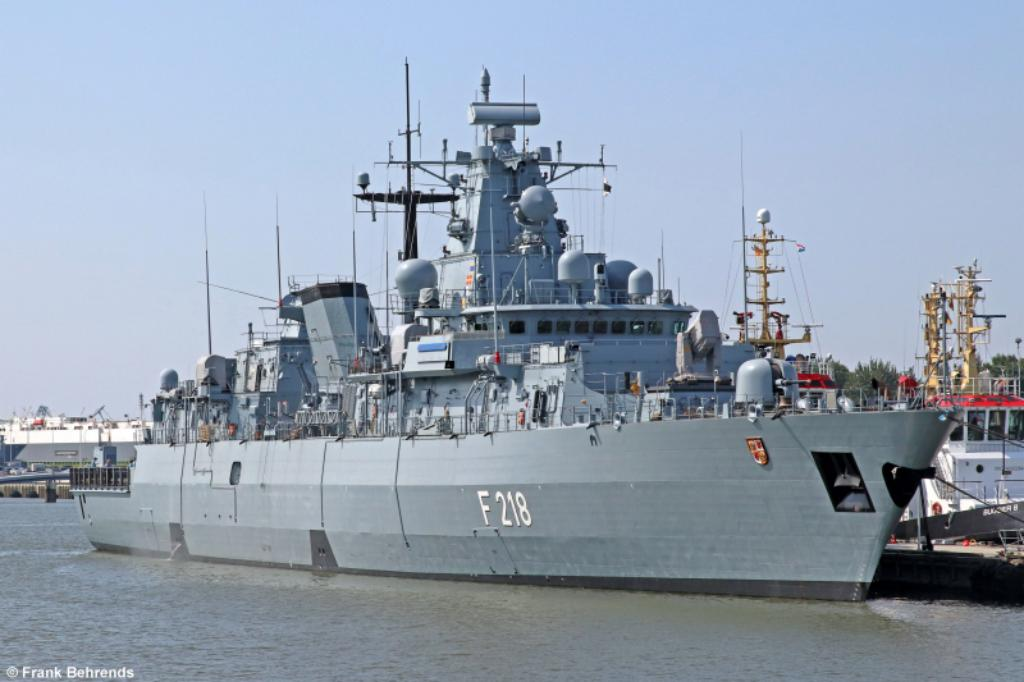Warship: (75, 46, 969, 604)
